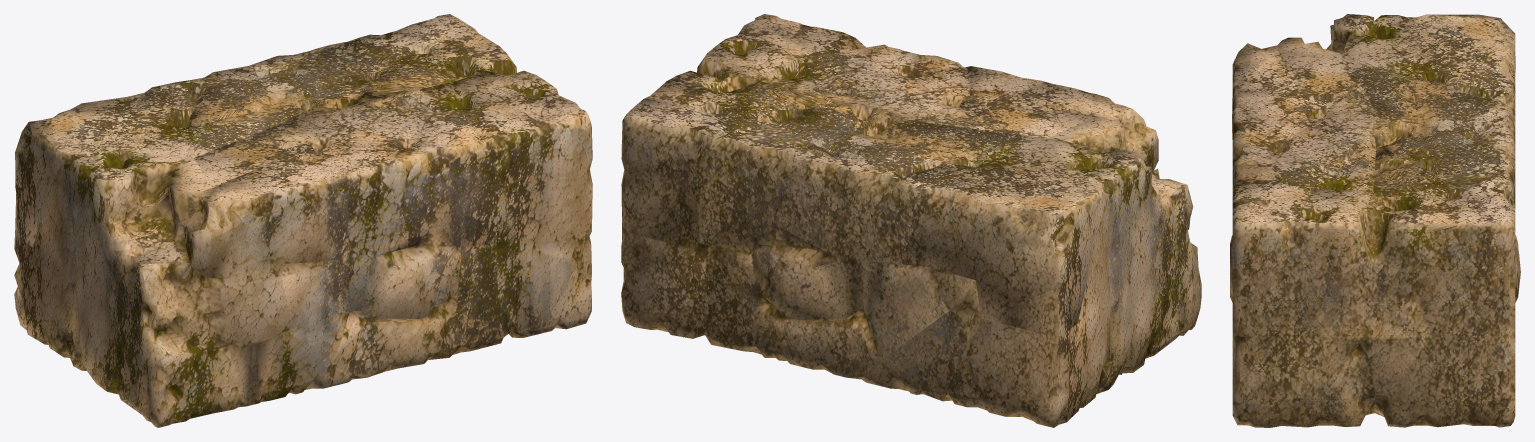
The model's file is ARQ_BloqueMaya_02_LOD0.fbx.
3 renders of one model, left to right at view 1: azimuth 30°, elevation 25°; view 2: azimuth 150°, elevation 25°; view 3: azimuth 270°, elevation 25°, orthographic.
Visible parts, largest first — view 1: ARQ_BloqueMaya_02_Mesh000; view 2: ARQ_BloqueMaya_02_Mesh000; view 3: ARQ_BloqueMaya_02_Mesh000.
Boxes of the visible parts, x1=… form: ARQ_BloqueMaya_02_Mesh000: x1=14, y1=14, x2=592, y2=427; ARQ_BloqueMaya_02_Mesh000: x1=621, y1=14, x2=1201, y2=427; ARQ_BloqueMaya_02_Mesh000: x1=1230, y1=14, x2=1520, y2=427.
Bounding box in the file's own units: 1.2 × 0.55 × 0.7.
